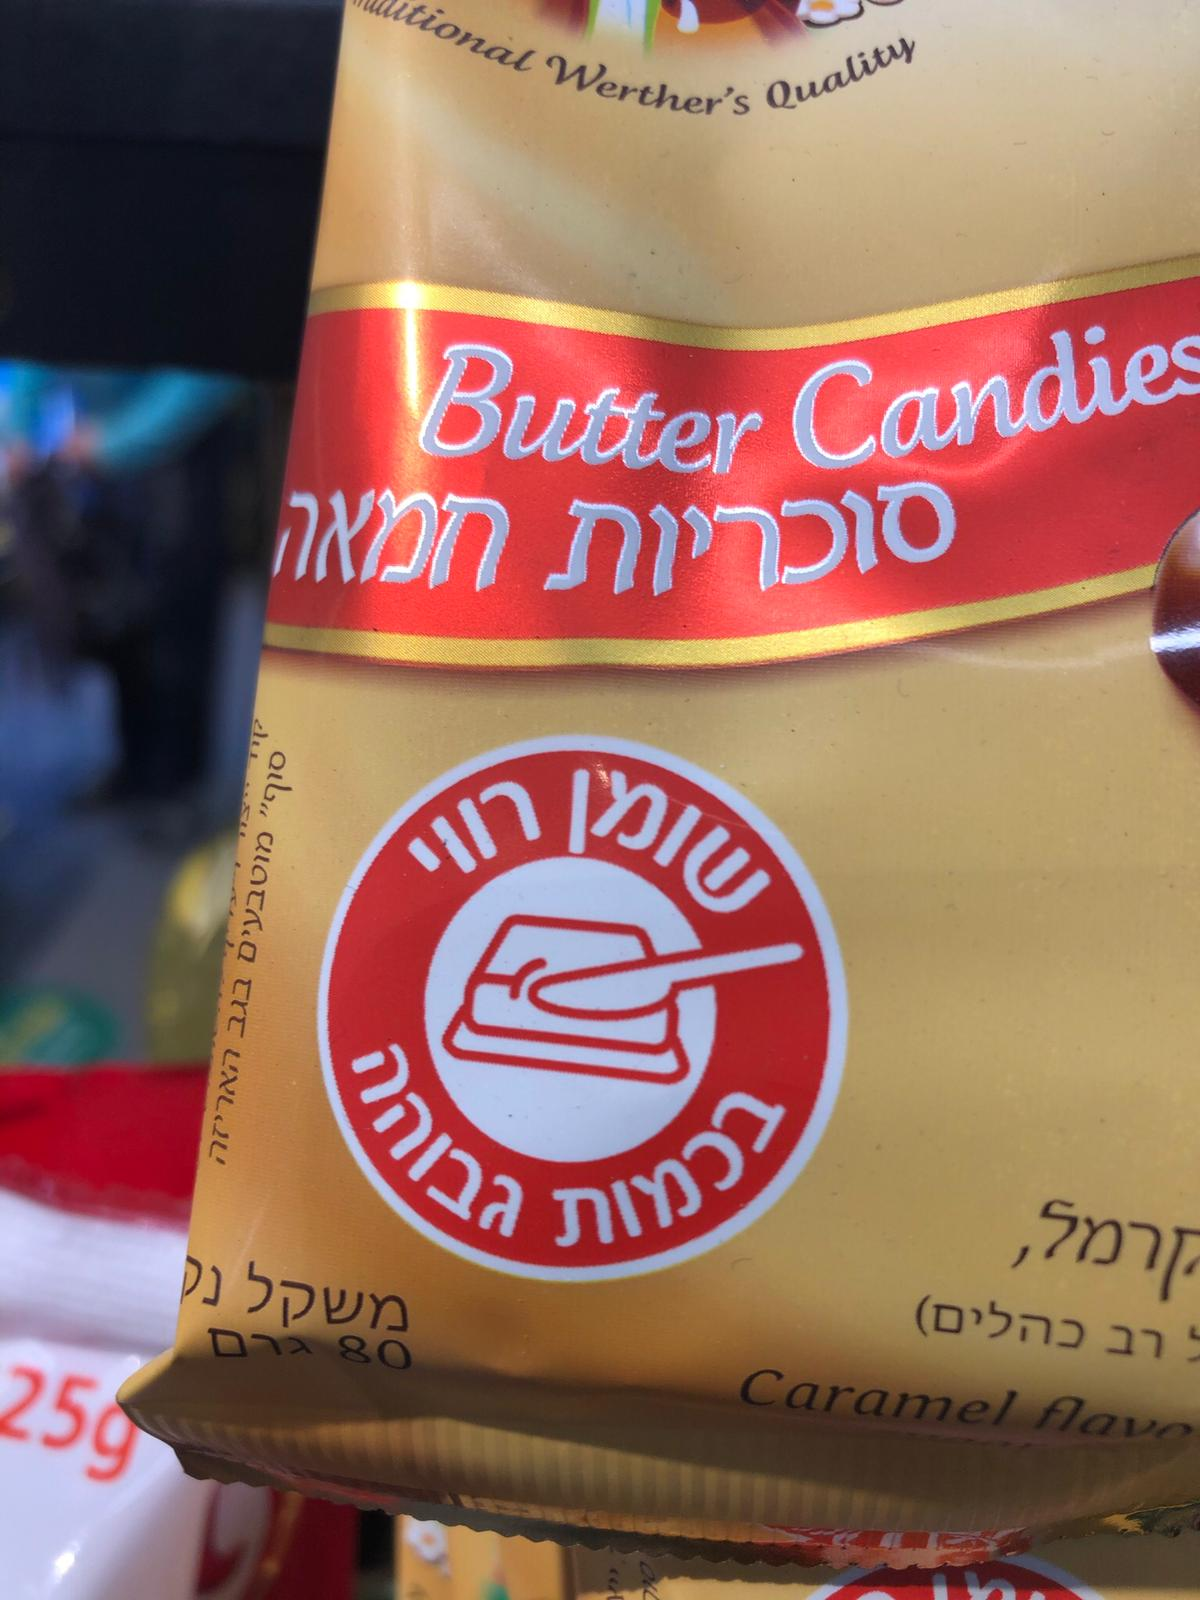fat: (321, 736, 846, 1288)
